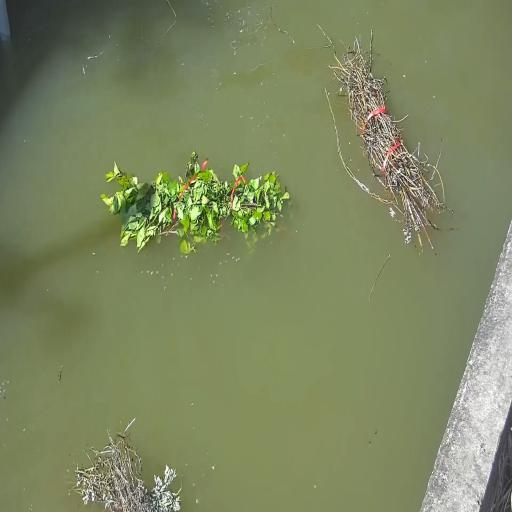twig: (324, 39, 449, 249), (101, 151, 290, 254), (75, 421, 180, 512)
